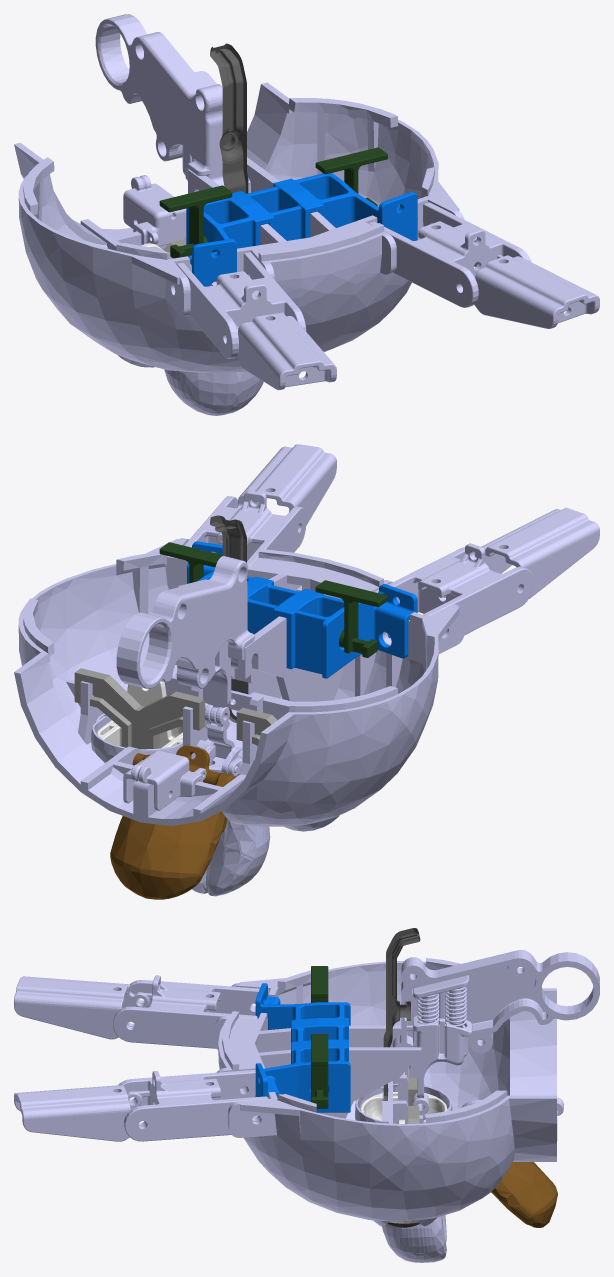
Rendered from karakuri-face.glb.
3 renders of one model, top to bottom at view 1: azimuth 30°, elevation 25°; view 2: azimuth 150°, elevation 25°; view 3: azimuth 270°, elevation 25°, orthographic. The views are drawn at different scales.
Visible parts, largest first — view 1: COMPOUND (×12), SHELL; view 2: COMPOUND (×22), SHELL; view 3: COMPOUND (×18), SHELL.
Part boxes in pixels (x1,y1,x2,y2): COMPOUND (×12): (14,14,599,415); SHELL: (210,43,248,193); COMPOUND (×22): (14,444,599,899); SHELL: (210,515,248,722); COMPOUND (×18): (14,950,599,1262); SHELL: (383,928,420,1100).
Bounding box in the file's own units: 179 × 165 × 268.
